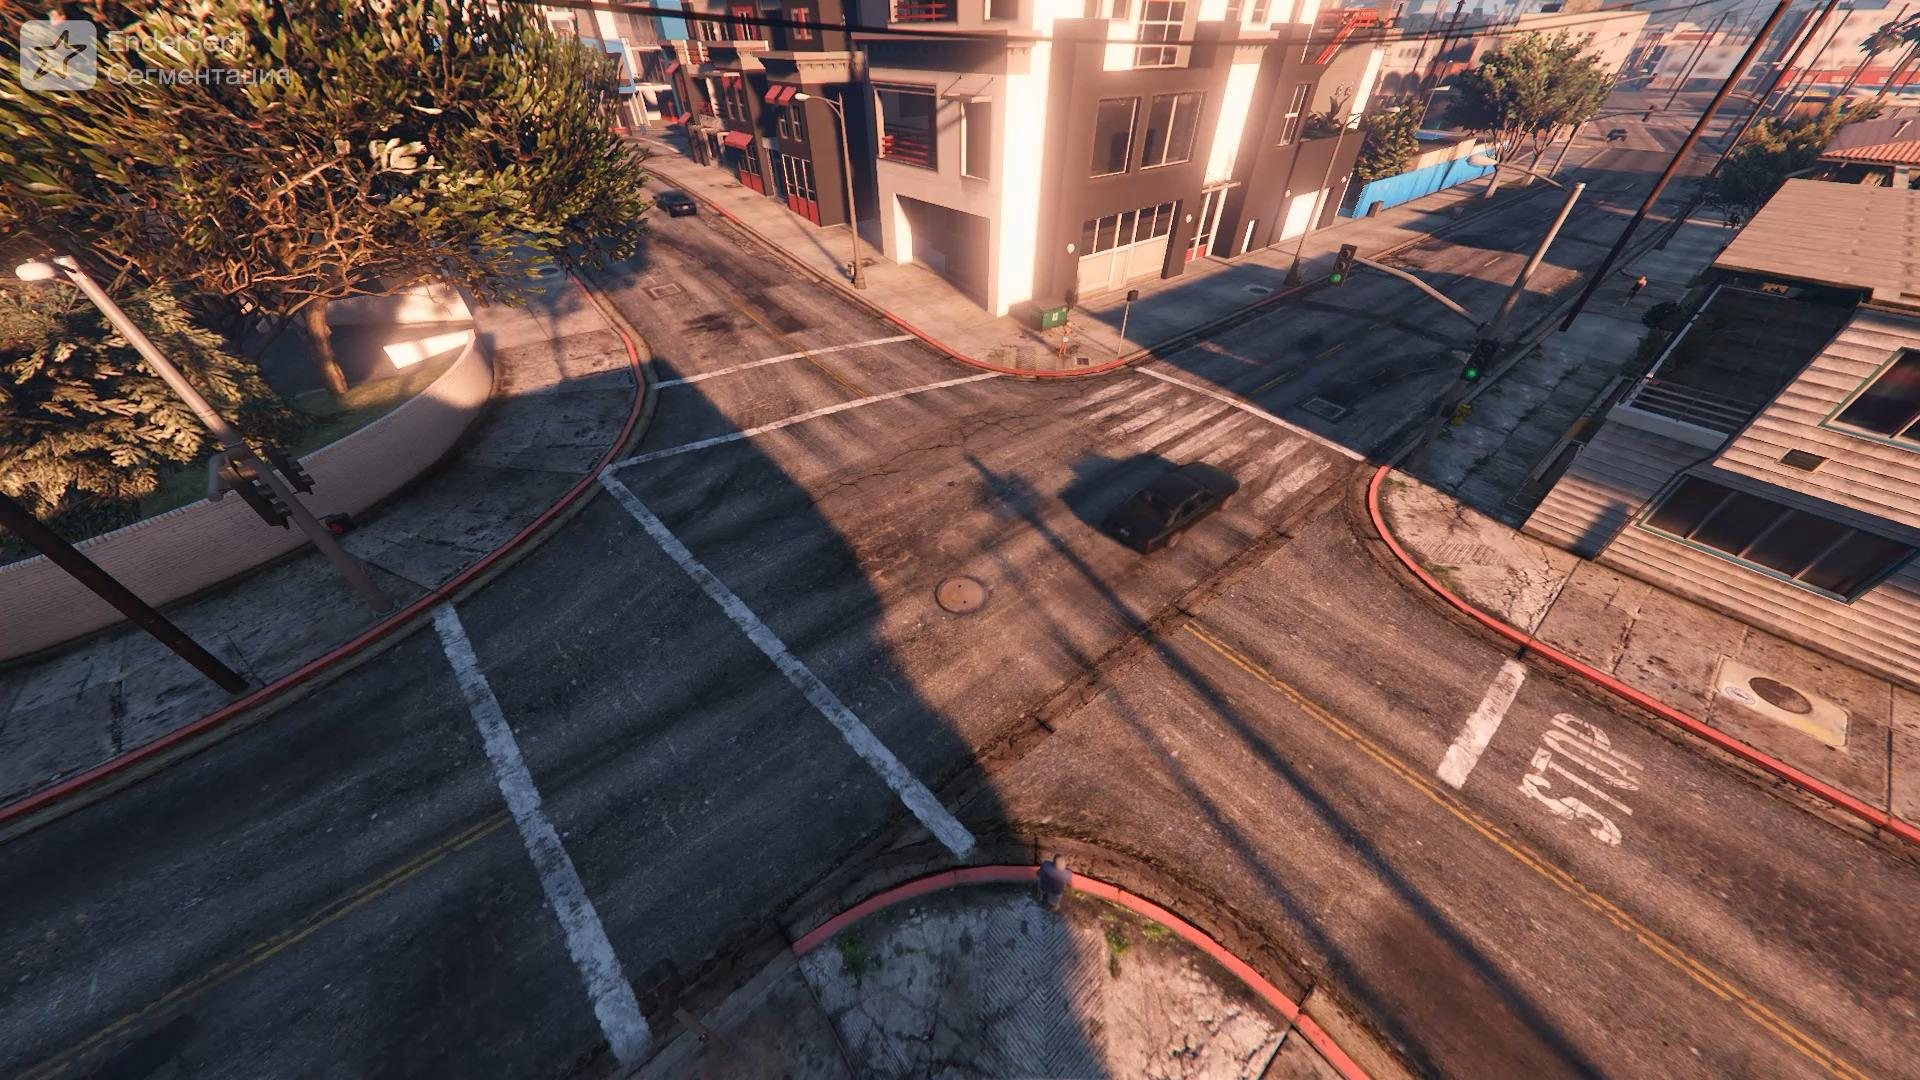car: (1101, 460, 1234, 554), (659, 194, 696, 219), (1605, 128, 1627, 142)
